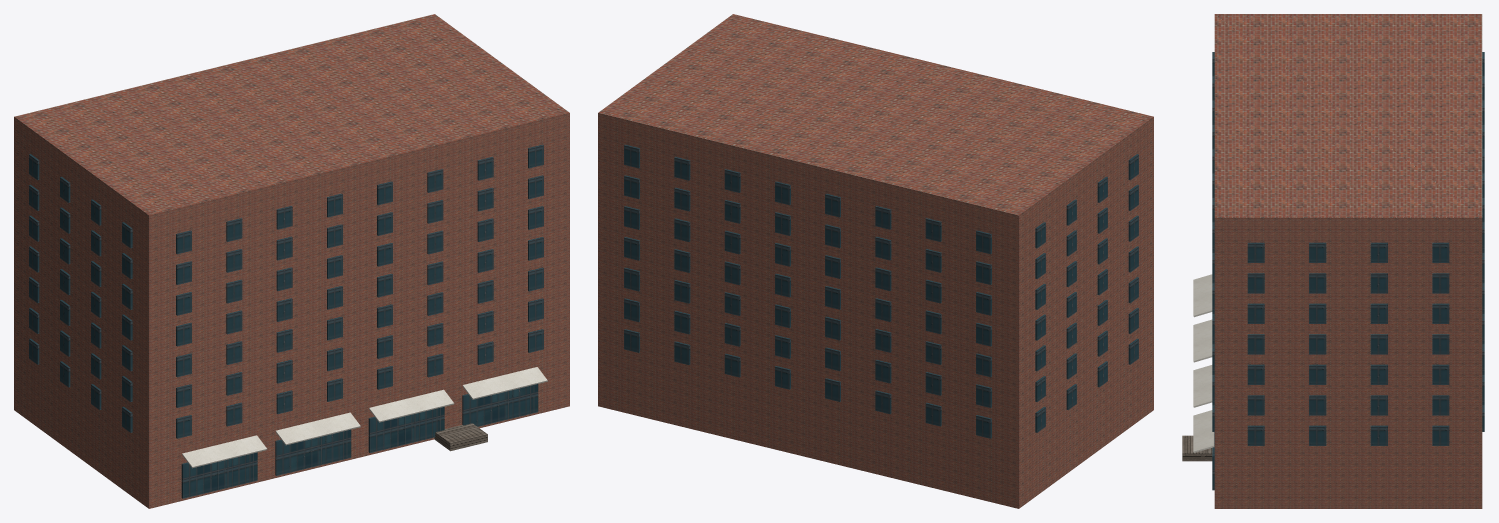
The model's file is mixed-use-block_lod0.gltf.
The picture shows the model from 3 angles, left to right: view 1: azimuth 30°, elevation 25°; view 2: azimuth 150°, elevation 25°; view 3: azimuth 270°, elevation 25°; orthographic projection.
Parts seen in each view (by area): view 1: mixed-use-block_main, mixed-use-block_fen_07-glass-curtain-blue_0, mixed-use-block__awning_b, mixed-use-block__awning_a, mixed-use-block__awning_c, mixed-use-block__awning_d, mixed-use-block__cafe_tables; view 2: mixed-use-block_main, mixed-use-block_fen_07-glass-curtain-blue_0; view 3: mixed-use-block_main, mixed-use-block_fen_07-glass-curtain-blue_0, mixed-use-block__awning_d, mixed-use-block__awning_a, mixed-use-block__awning_b, mixed-use-block__awning_c, mixed-use-block__cafe_tables.
Boxes of the visible parts, x1,y1,x2,y2 form: mixed-use-block_main: (14, 14, 569, 508); mixed-use-block_fen_07-glass-curtain-blue_0: (29, 144, 543, 498); mixed-use-block__awning_b: (275, 412, 360, 445); mixed-use-block__awning_a: (182, 435, 266, 468); mixed-use-block__awning_c: (369, 389, 454, 422); mixed-use-block__awning_d: (462, 367, 547, 399); mixed-use-block__cafe_tables: (434, 423, 487, 451); mixed-use-block_main: (598, 14, 1153, 508); mixed-use-block_fen_07-glass-curtain-blue_0: (624, 144, 1138, 438); mixed-use-block_main: (1214, 14, 1482, 508); mixed-use-block_fen_07-glass-curtain-blue_0: (1212, 52, 1484, 490); mixed-use-block__awning_d: (1193, 410, 1214, 452); mixed-use-block__awning_a: (1193, 274, 1212, 317); mixed-use-block__awning_b: (1193, 319, 1212, 362); mixed-use-block__awning_c: (1193, 365, 1212, 407); mixed-use-block__cafe_tables: (1182, 435, 1212, 461).
Size of the model in its own units: 45.4 by 30 by 28.2.
